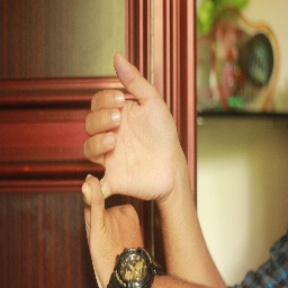S: (72, 49, 180, 280)
